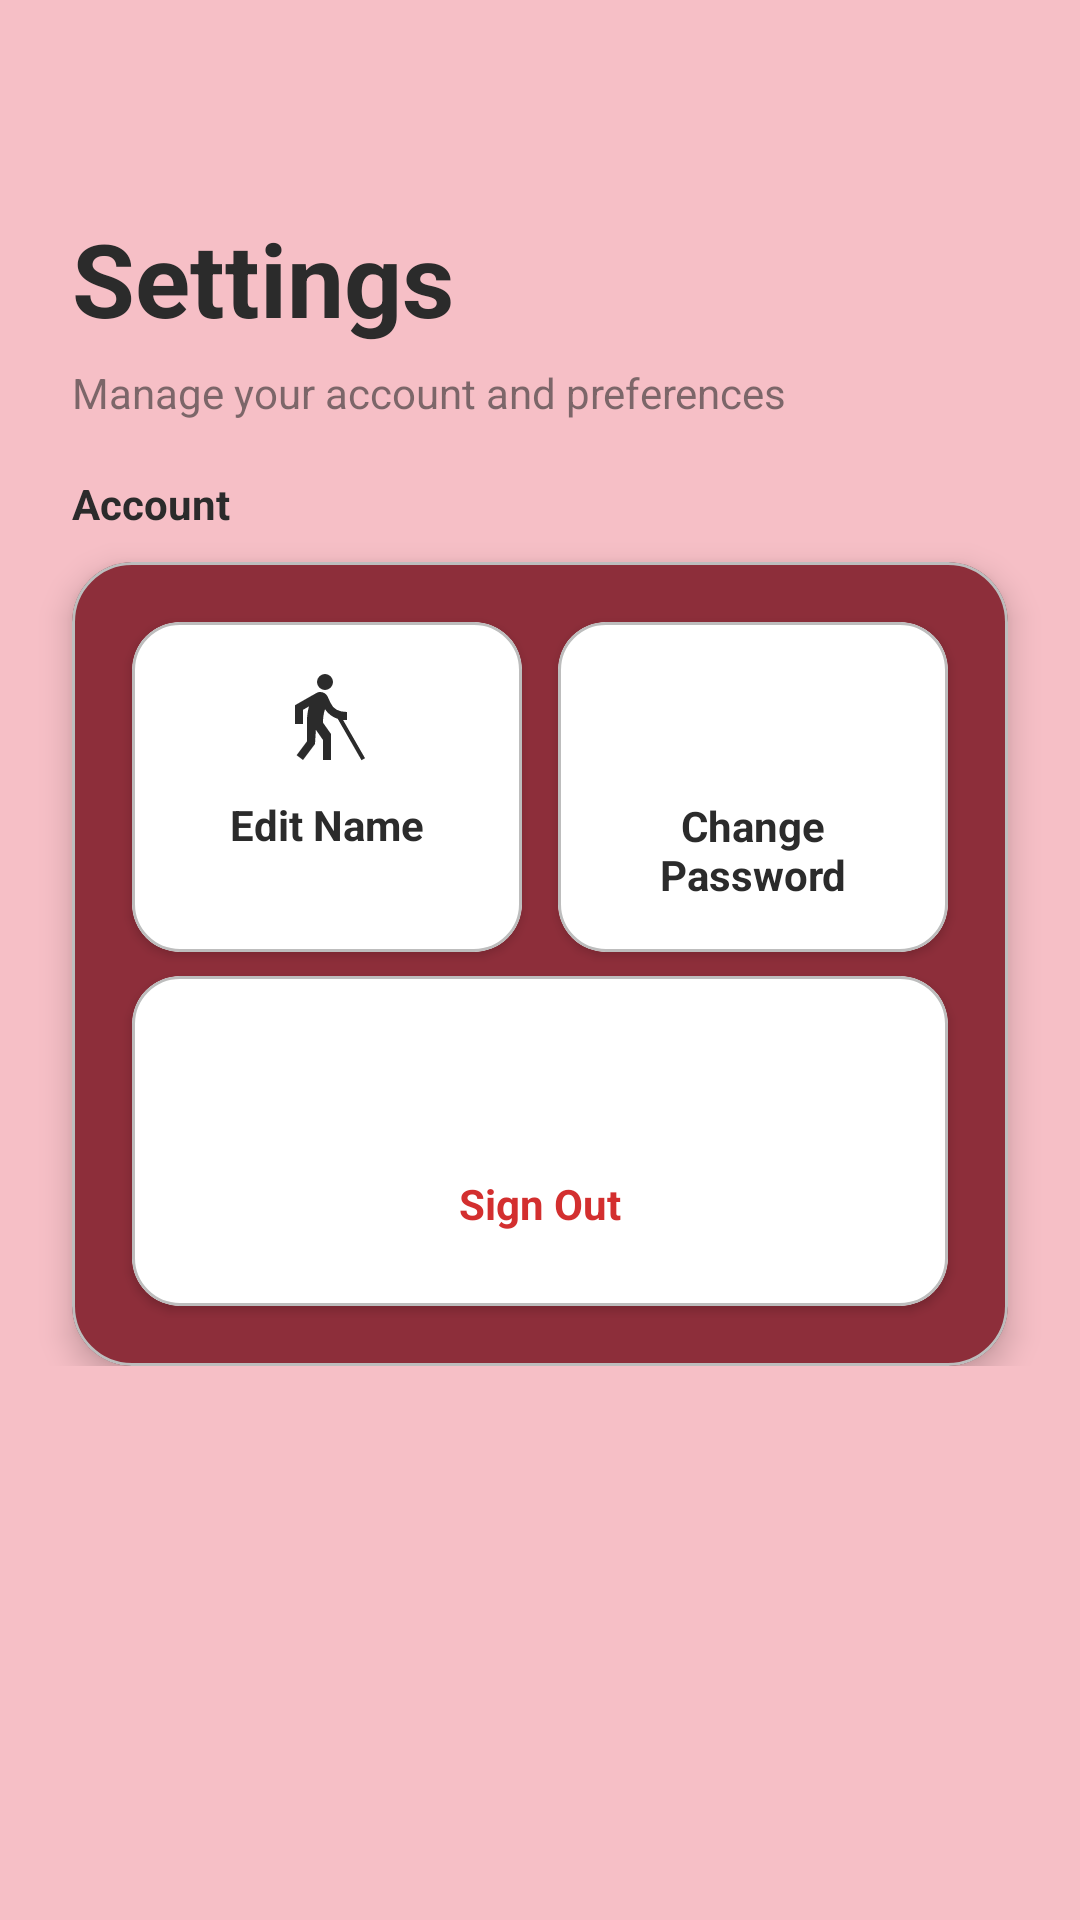

Icons on this 1080x1920 Android screen, each with the point to tap as [x,y]:
person: [330,717]
